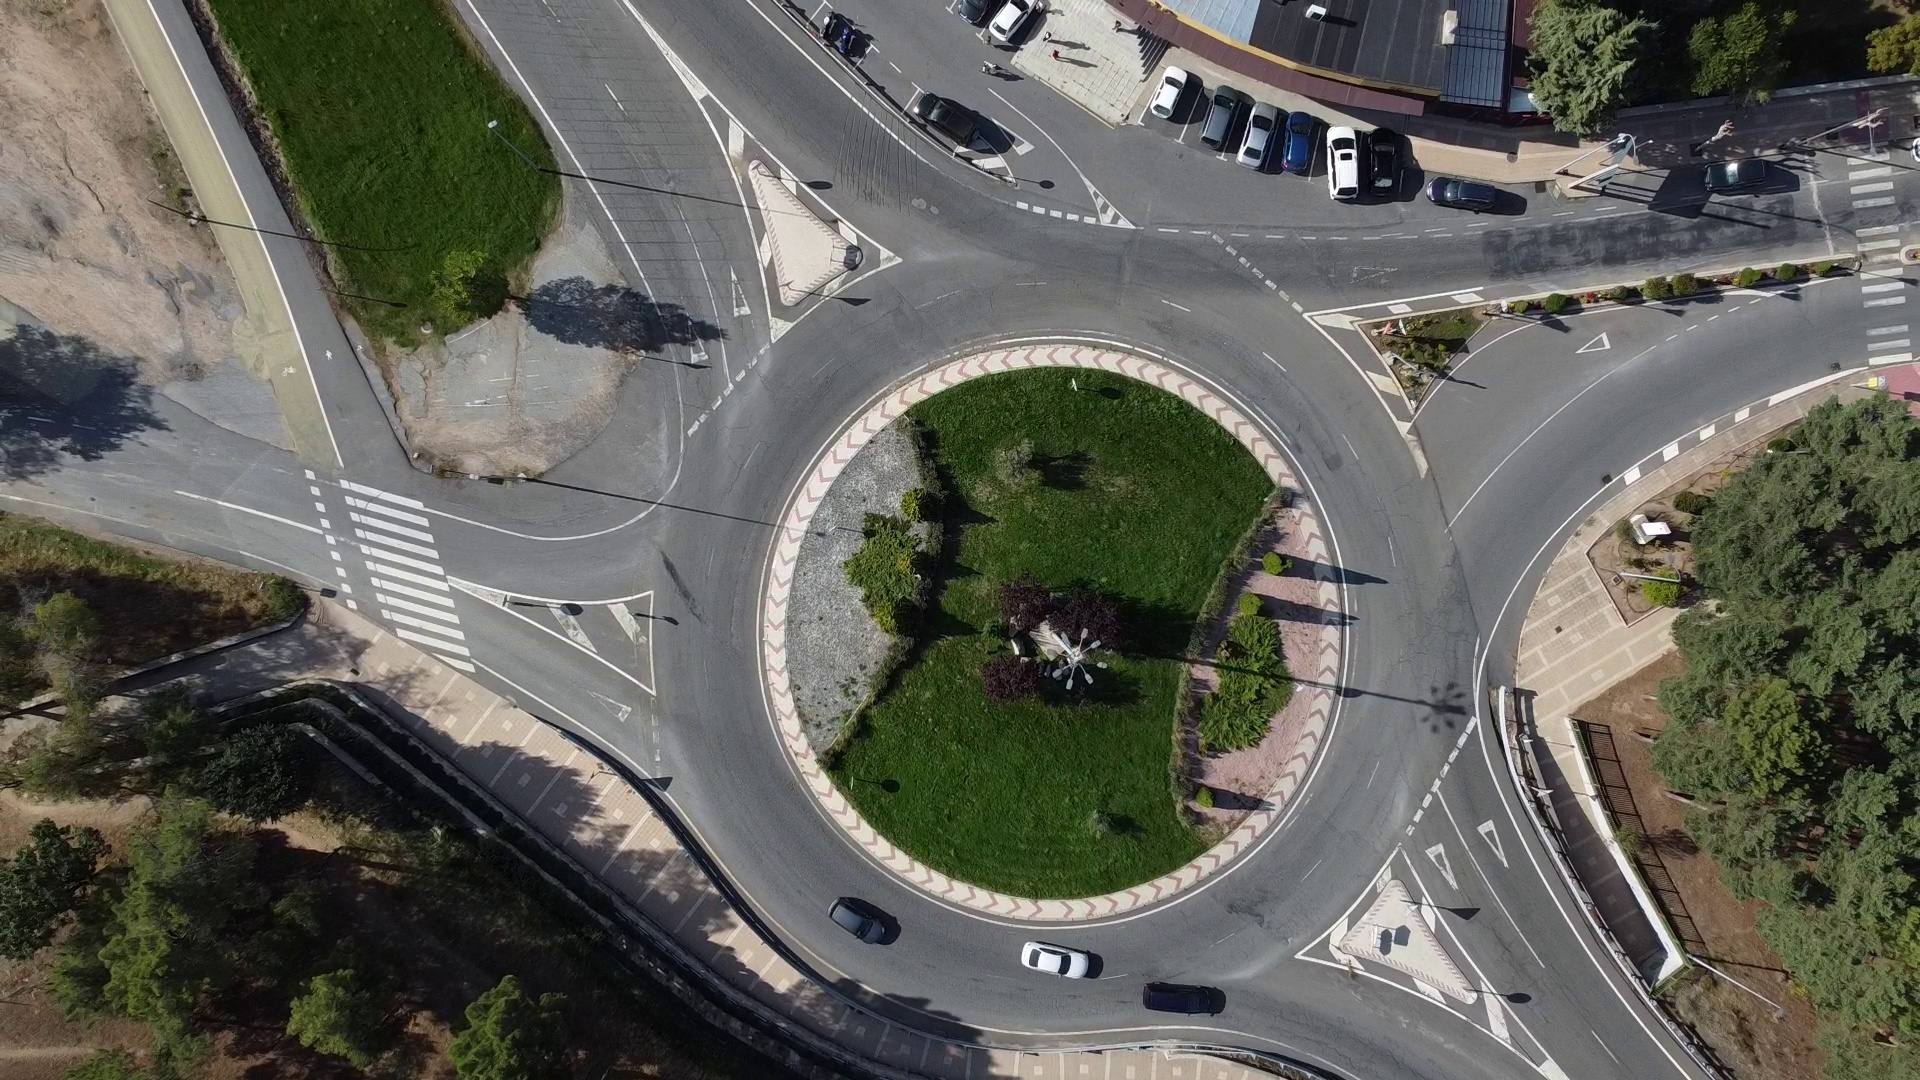cycle: (839, 24, 857, 57), (822, 12, 836, 42)
vehicle: (915, 94, 980, 148), (1017, 938, 1093, 982), (1236, 102, 1279, 173), (823, 897, 886, 945), (1422, 173, 1497, 212), (1323, 123, 1360, 203), (1195, 84, 1240, 150), (1698, 156, 1778, 193), (1141, 978, 1218, 1015), (981, 3, 1040, 47), (1146, 63, 1189, 121), (1365, 127, 1398, 196), (1278, 109, 1313, 174)
